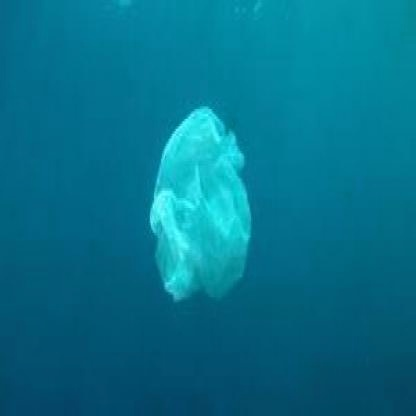pbag: (148, 104, 252, 305)
